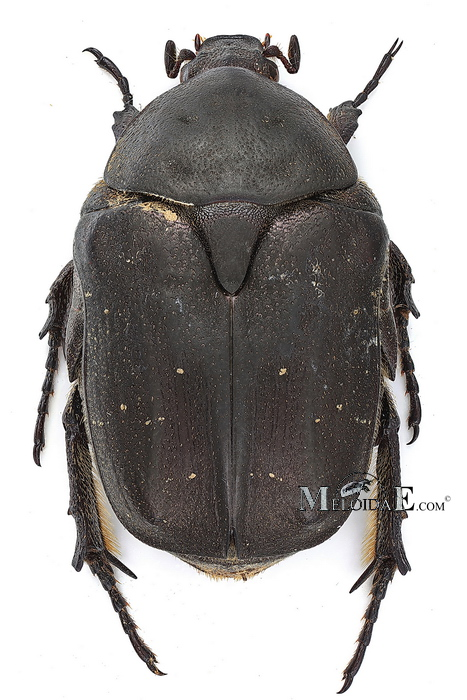Protaetia_morio_morio: (23, 14, 451, 696)
